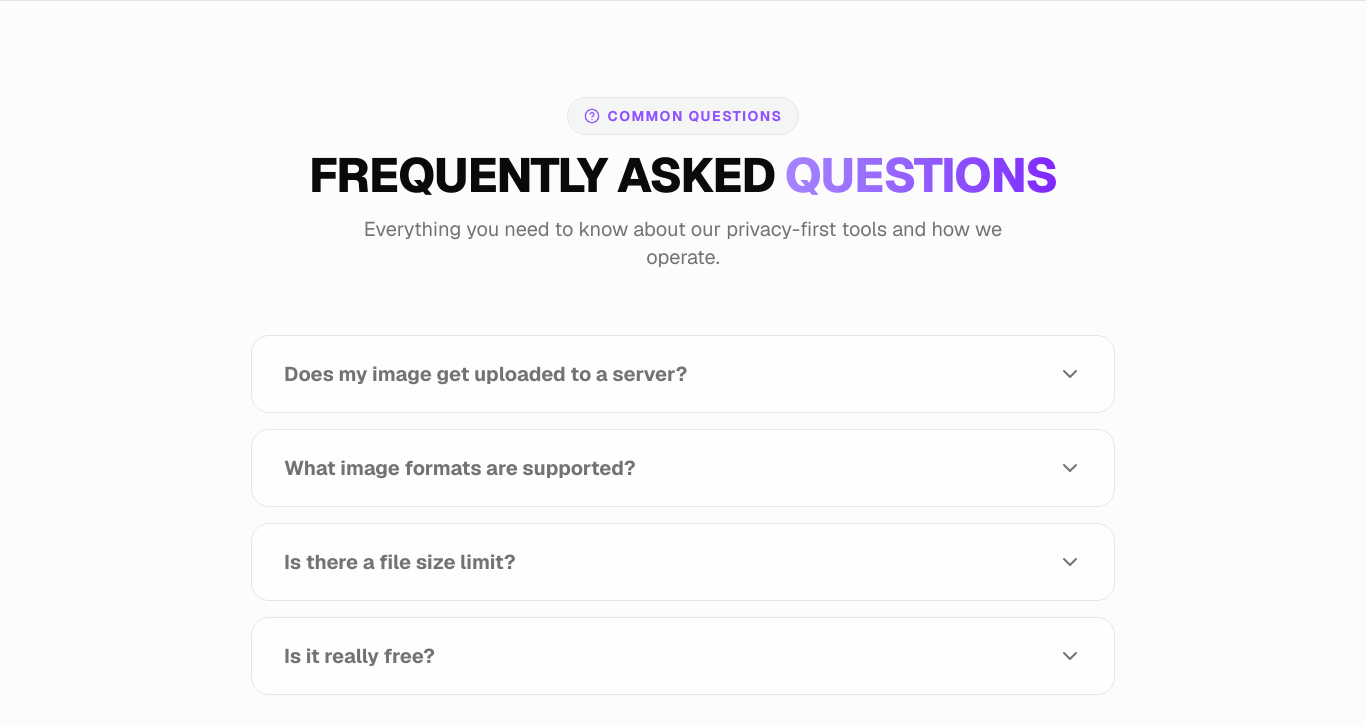
SiteFaq › clicking a question keeps answer in DOM (still open state)
Click the button "Does my image get uploaded to a server?": (683, 374) [252,336,1114,412]
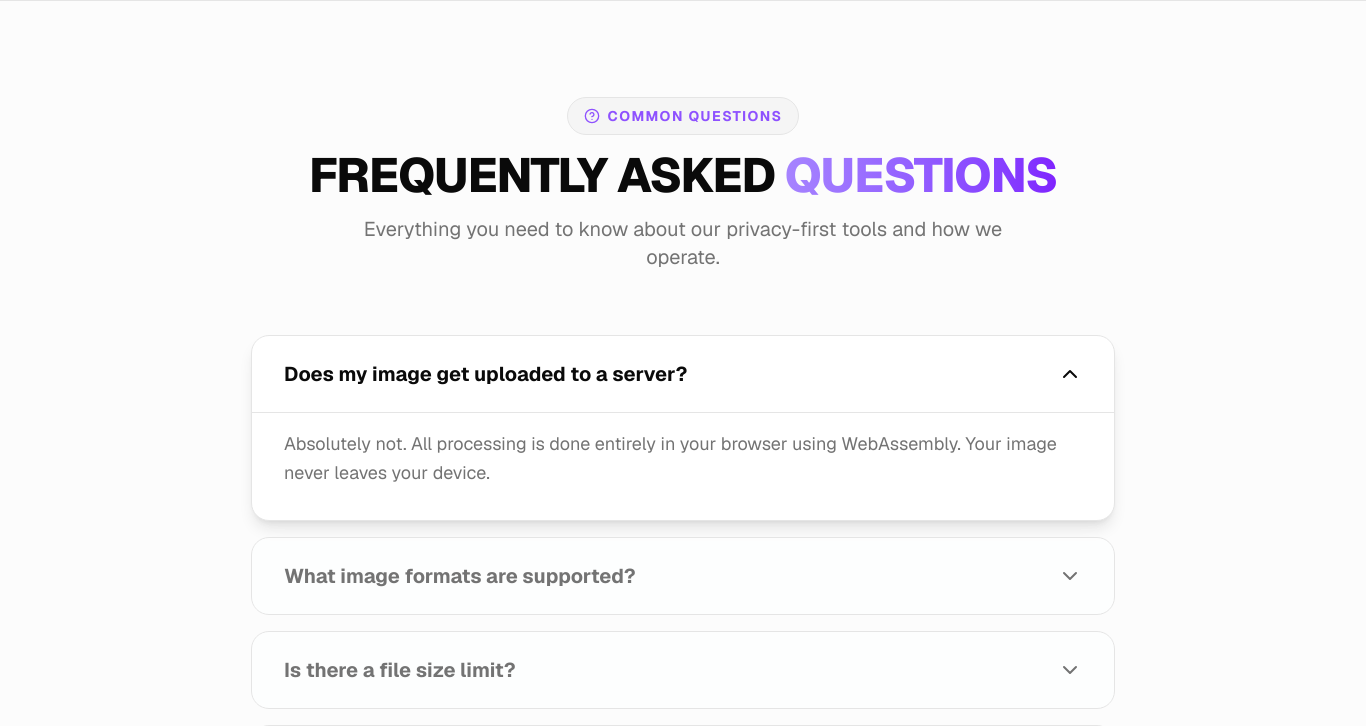
expect the text "Absolutely not. All processing is done entirely in your browser using WebAssembly. Your image never leaves your device." is shown: met, box [284,432,1057,484]
